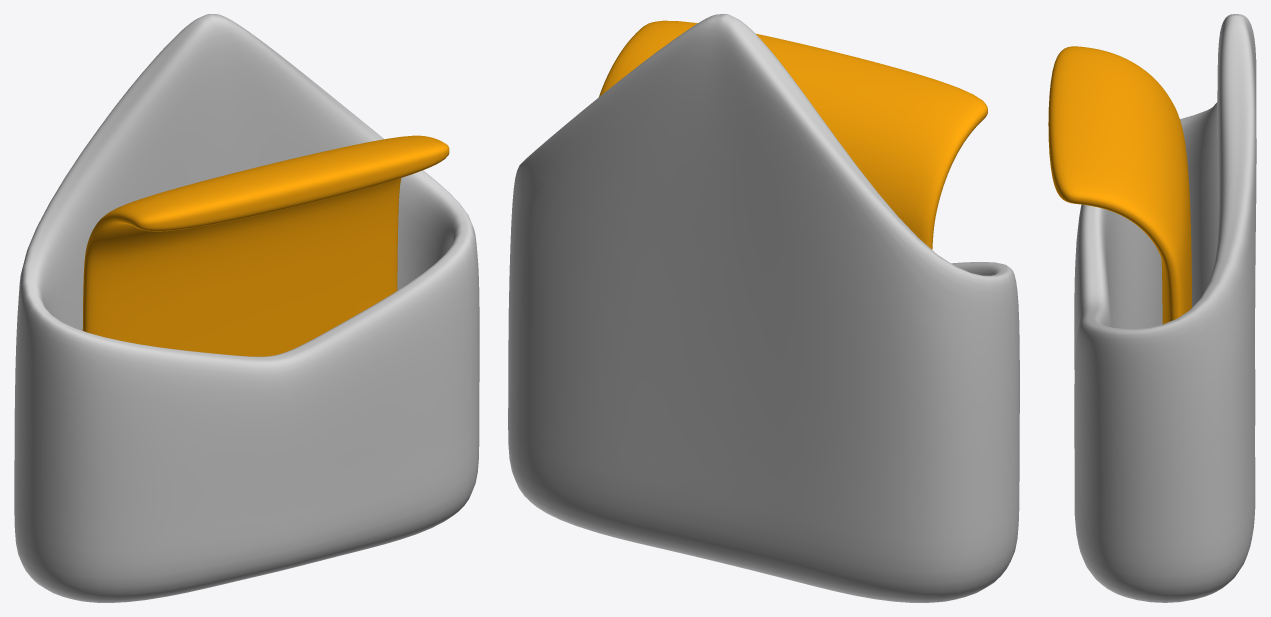
File: mail-animated-3d-icon-1138597458080.glb
3 renders of one model, left to right at view 1: azimuth 30°, elevation 25°; view 2: azimuth 150°, elevation 25°; view 3: azimuth 270°, elevation 25°, orthographic. The views are drawn at different scales.
Visible parts, largest first — view 1: Mail, Paper; view 2: Mail, Paper; view 3: Mail, Paper.
Part boxes in pixels (box(x1,y1,x2,y2)): Mail: box(14, 14, 479, 602); Paper: box(82, 135, 449, 356); Mail: box(508, 14, 1019, 602); Paper: box(599, 20, 987, 249); Mail: box(1074, 14, 1256, 602); Paper: box(1048, 46, 1191, 324).
Size of the model in its own units: 1.84 by 2.05 by 0.7652.
